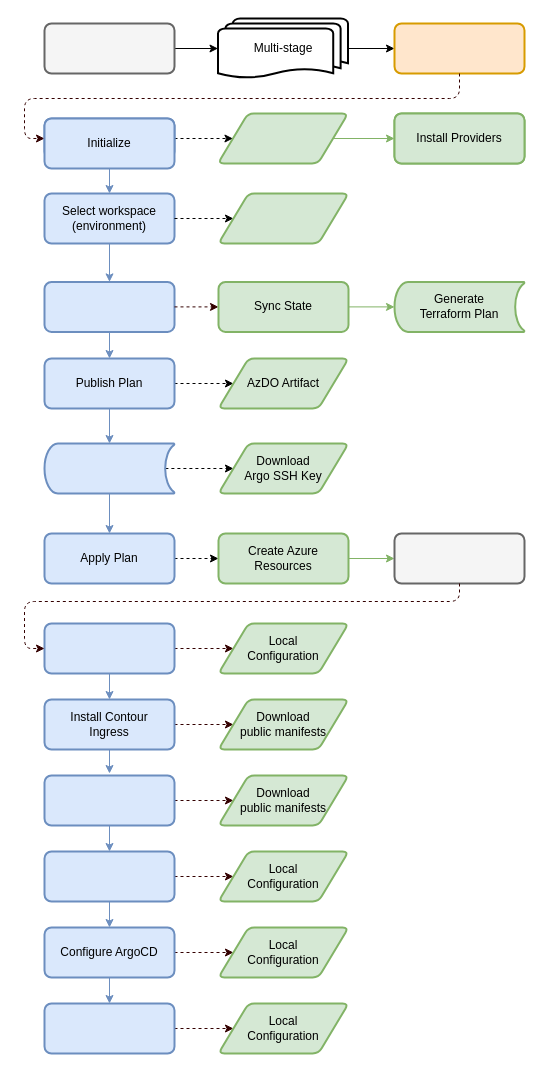
This 543x1071 diagram has some shape labels left out. Each missing label, with the centre of its shape:
"Configure AKS Cluster" goes at [459,558].
"Configure Remote State" goes at [282,138].
"Create Argo namespace" goes at [109,648].
"Deploy Infrastructure" goes at [109,48].
"Download remote state" goes at [283,218].
"Download Secure Files" goes at [109,468].
"Install Argo SSH Key" goes at [109,876].
"Install ArgoCD" goes at [109,800].
"Install ArgoCD Applications" goes at [109,1028].
"Plan" goes at [109,306].
"Terraform Deployment" goes at [459,48].
